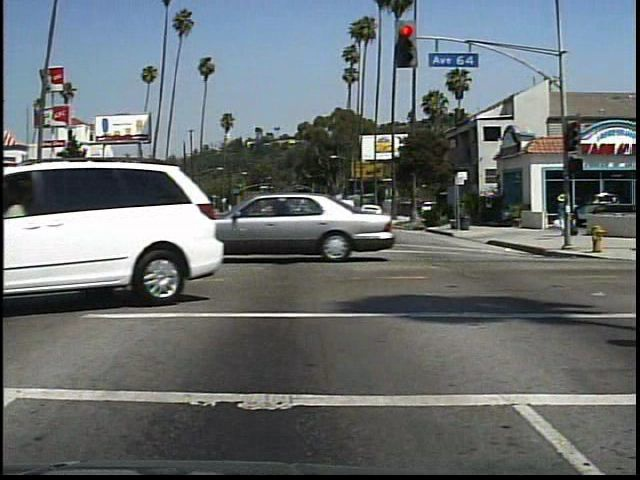person: (551, 189, 577, 235)
